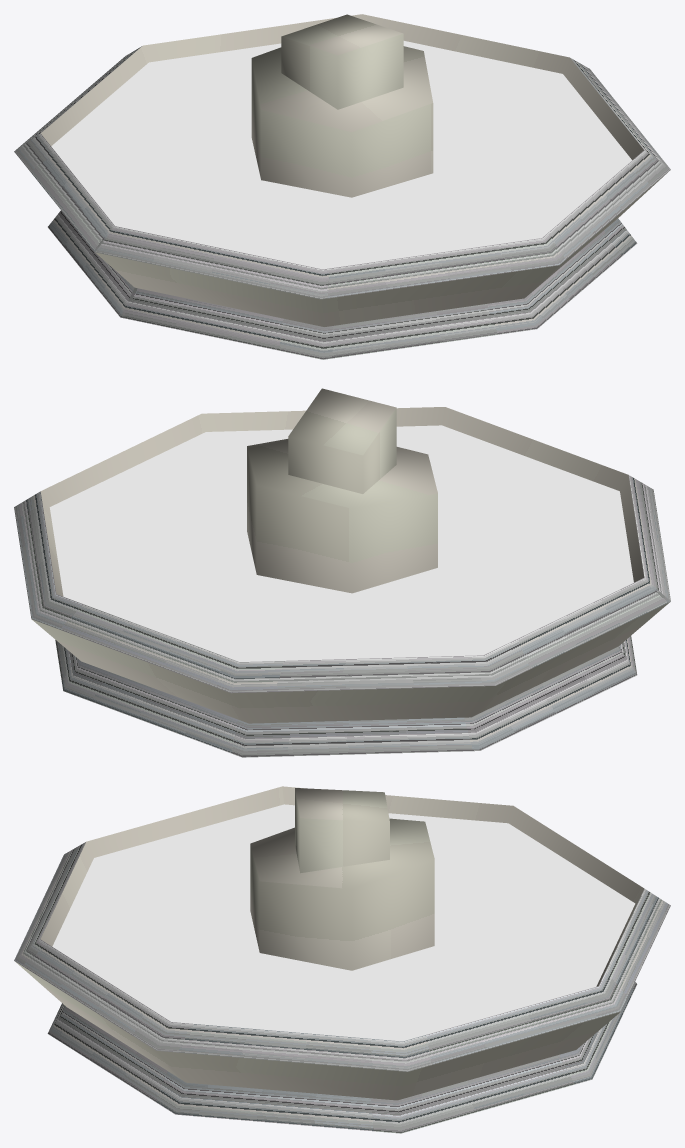
The model's file is thm_corl_fountain_circle_s01_l3.fbx.
3 renders of one model, top to bottom at view 1: azimuth 30°, elevation 25°; view 2: azimuth 150°, elevation 25°; view 3: azimuth 270°, elevation 25°, orthographic. The views are drawn at different scales.
Parts seen in each view (by area): view 1: mesh_node; view 2: mesh_node; view 3: mesh_node.
Part boxes in pixels (x1=…): mesh_node: x1=14, y1=14, x2=670, y2=359; mesh_node: x1=14, y1=388, x2=670, y2=757; mesh_node: x1=14, y1=786, x2=670, y2=1133.
Bounding box in the file's own units: 7.85 × 2.78 × 7.85.
2 materials, 1 textured.
